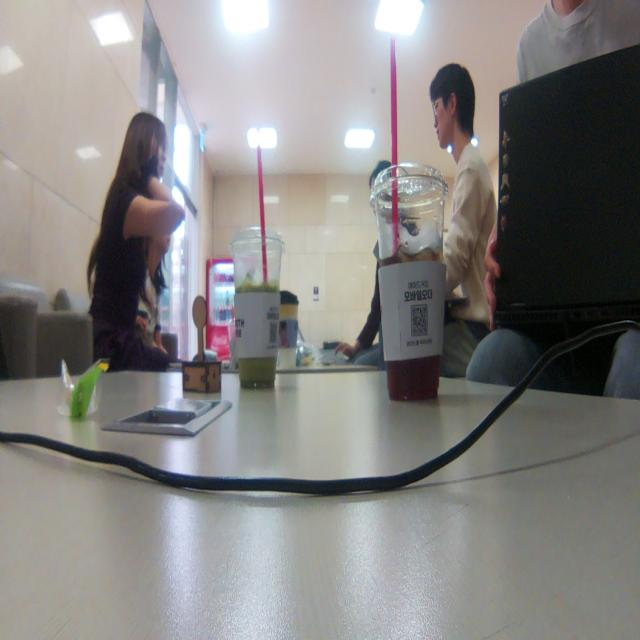target: (182, 294, 222, 394)
